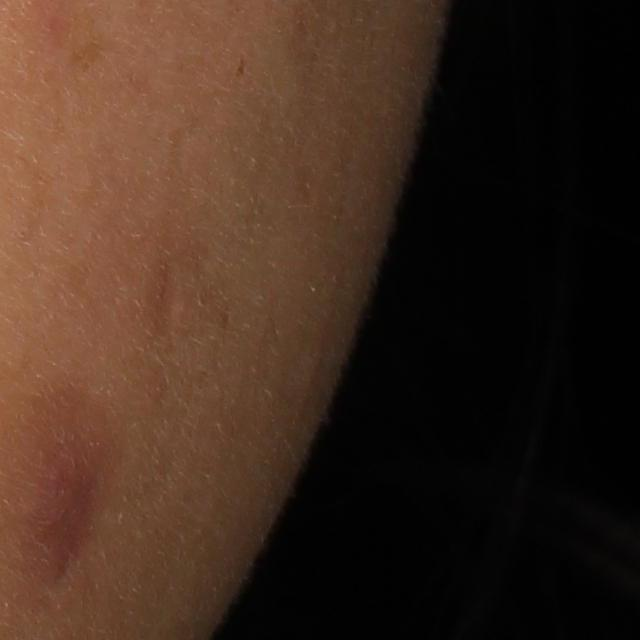nodule: (34, 436, 94, 580)
